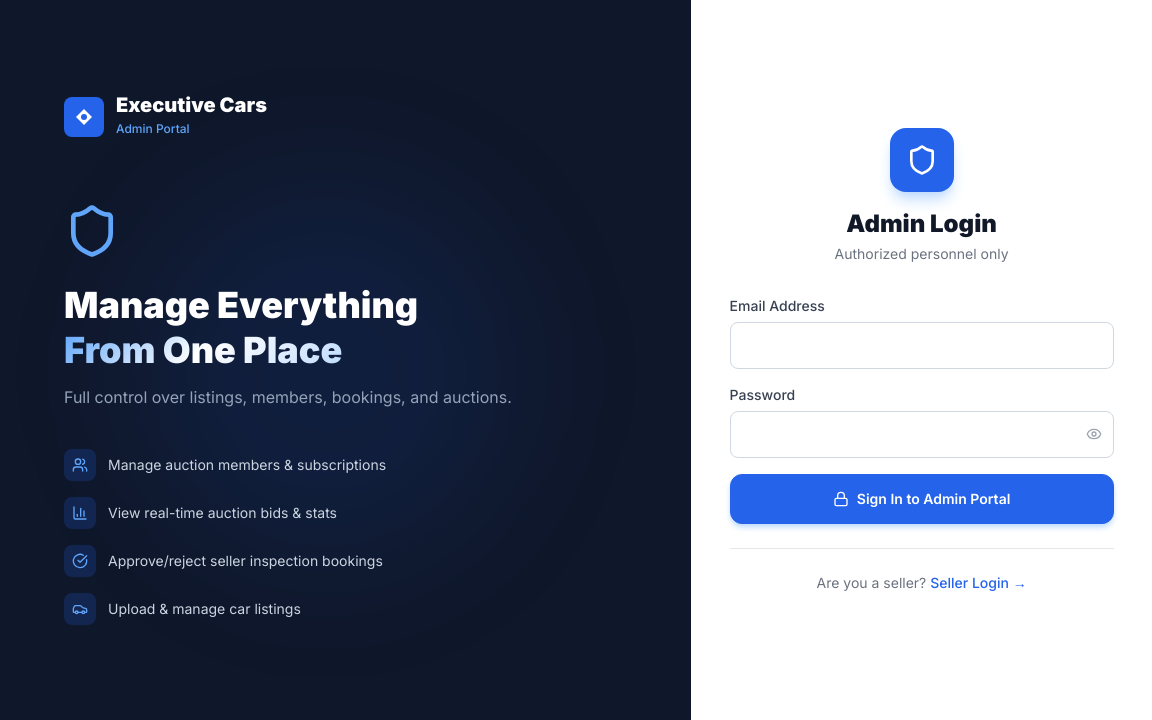
Test: AdminLoginPage › shows the backend login error
The image size is (1152, 720).
Type "admin@test.com" into the field labelled "Email Address" at x=922, y=345, box [730,322,1114,368]
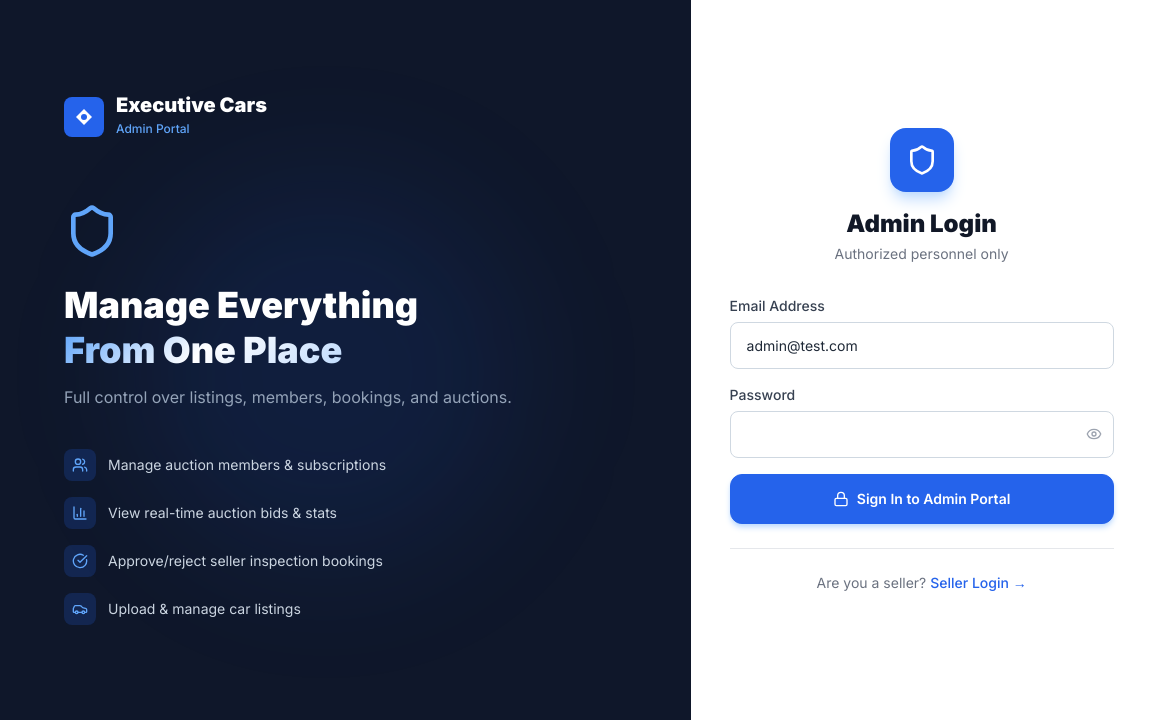
Type "wrong-password" into the password field labelled "Password" at x=922, y=434, box [730,410,1114,458]
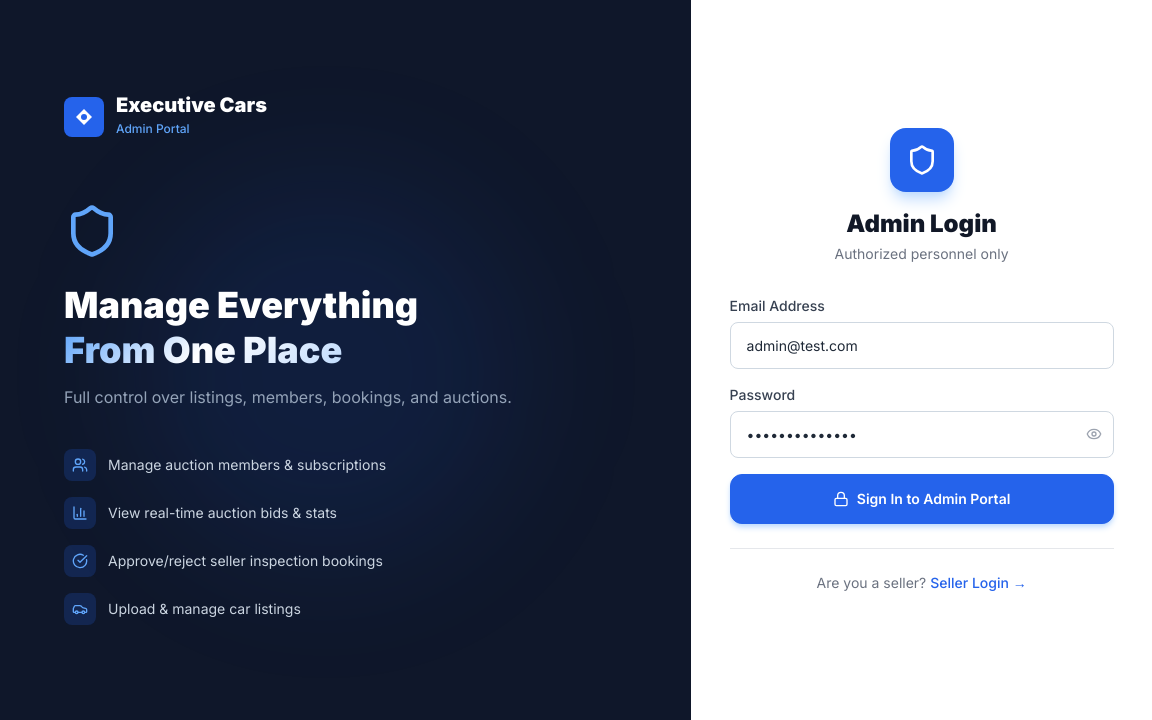
Click the button "Sign In to Admin Portal" at x=922, y=498, box [730,474,1114,524]
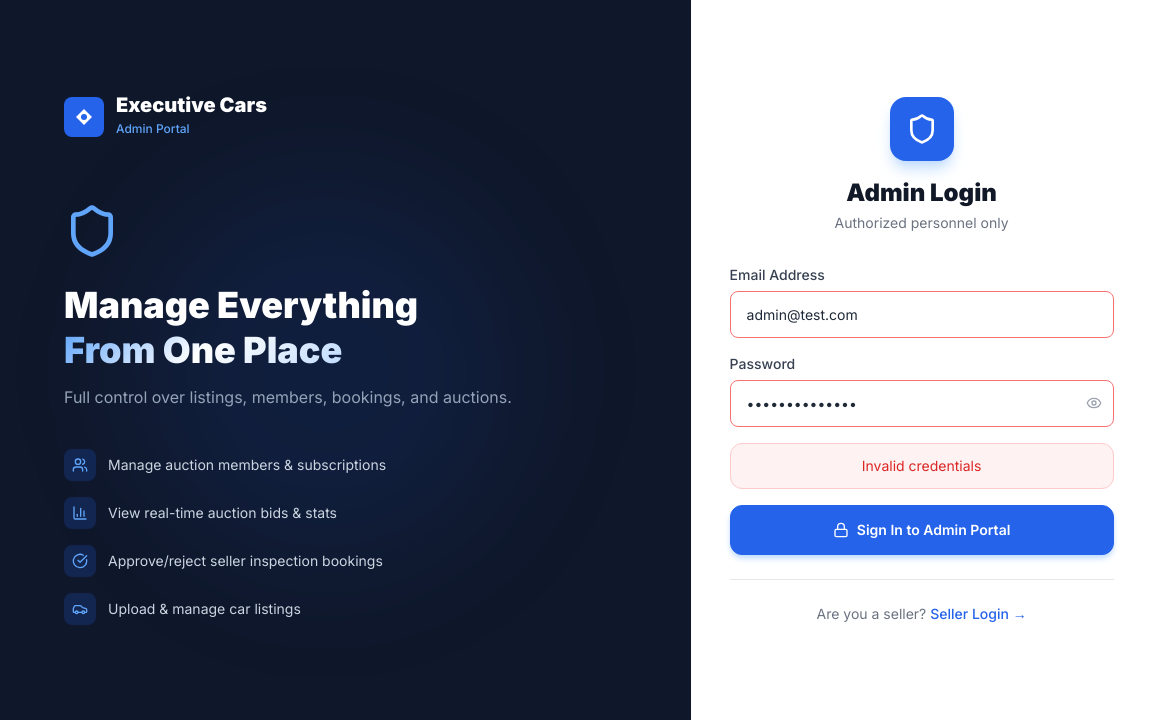
Check: the text "Invalid credentials" is shown, box [730,442,1114,488]
